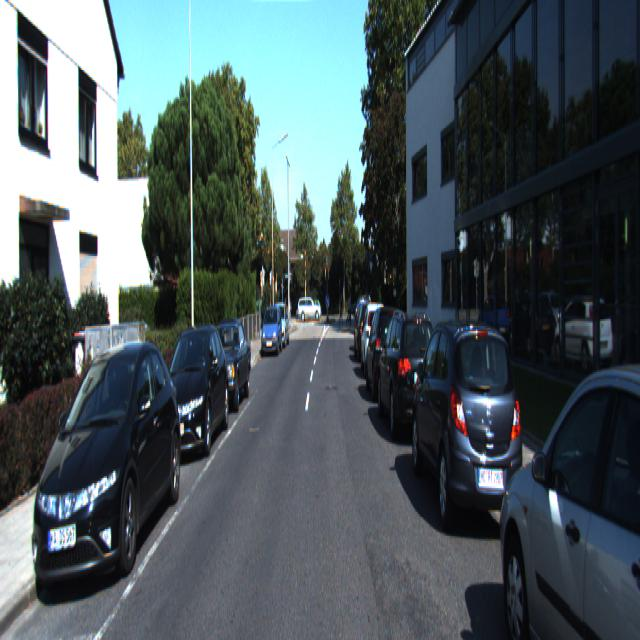Car: (499, 338, 639, 638), (30, 333, 185, 599), (411, 315, 529, 550), (155, 321, 230, 464), (376, 304, 444, 449), (200, 316, 253, 416), (365, 303, 408, 405), (360, 300, 391, 379), (353, 301, 380, 364), (261, 306, 283, 358)
